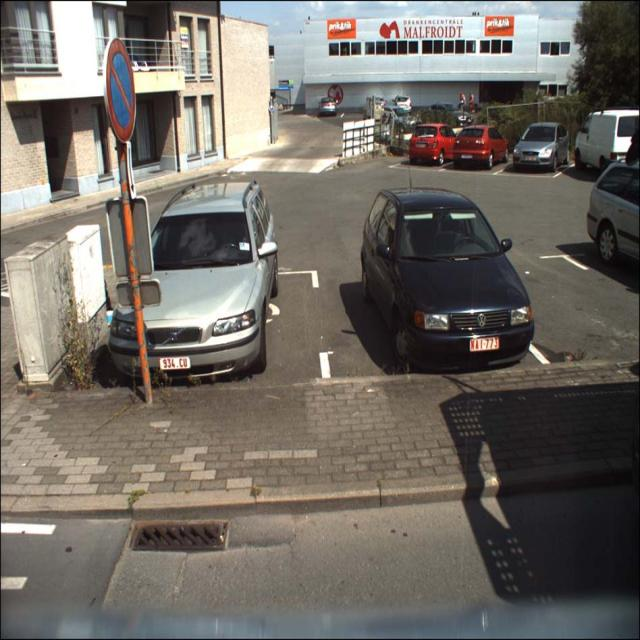parkyasak: (105, 37, 138, 143)
